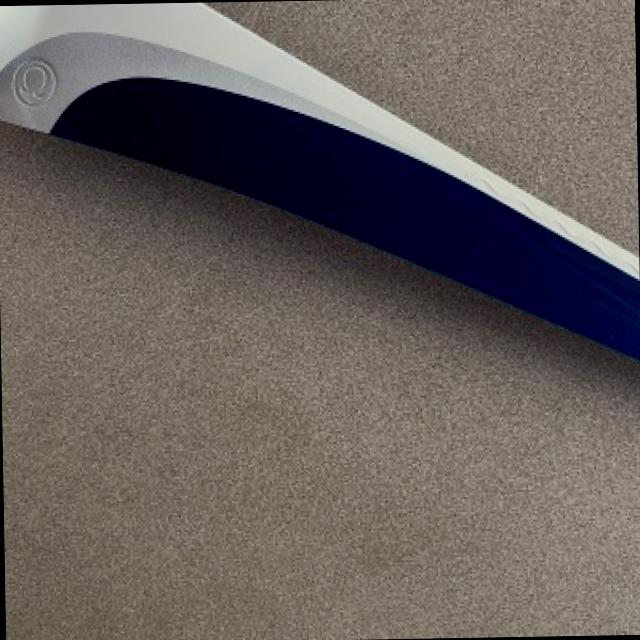healthy: (52, 2, 639, 274), (468, 202, 640, 346)
